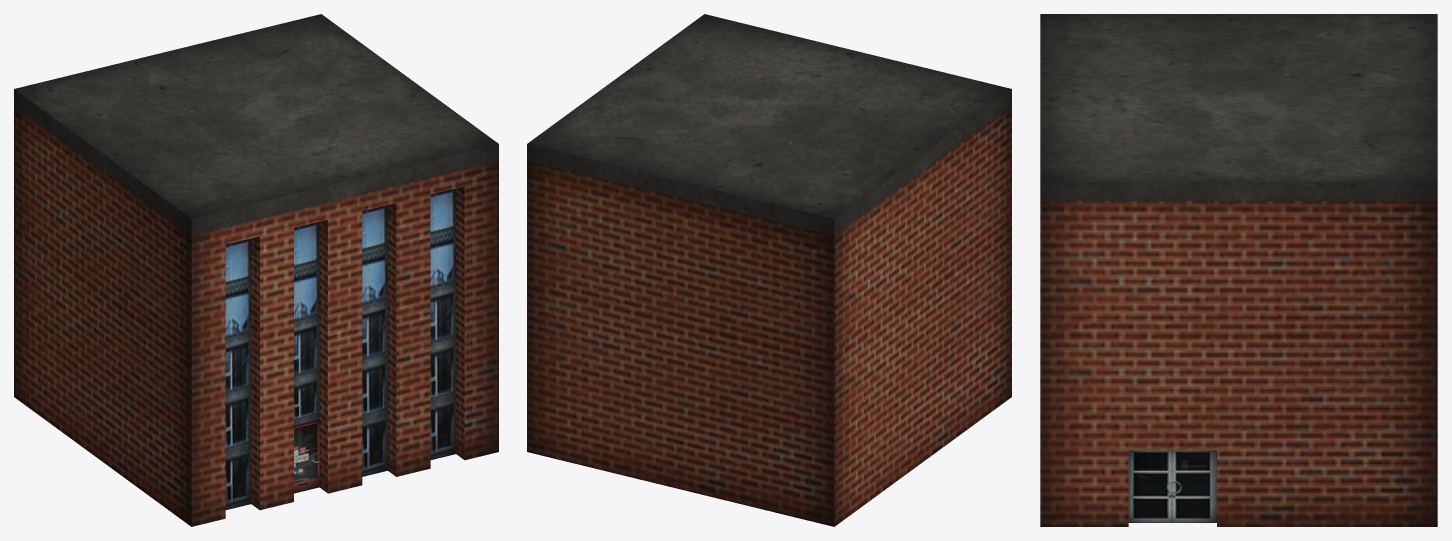
The model's file is building0.fbx.
3 renders of one model, left to right at view 1: azimuth 30°, elevation 25°; view 2: azimuth 150°, elevation 25°; view 3: azimuth 270°, elevation 25°, orthographic. The views are drawn at different scales.
Parts seen in each view (by area): view 1: building0; view 2: building0; view 3: building0.
Part boxes in pixels (x1,y1,x2,y2): building0: (14,14,498,526); building0: (527,14,1011,526); building0: (1040,14,1437,526).
Bounding box in the file's own units: 1000 × 1000 × 958.
1 material, 1 textured.
